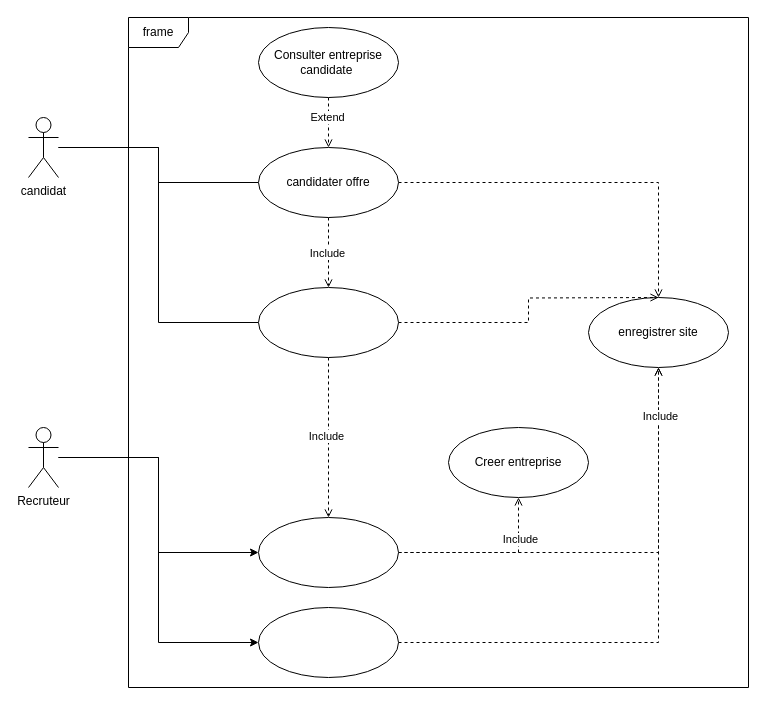
Image size: 766x705. Some labels were removed from this diagram. Here are the shapes that lost their labels. From the top down, the box of each, then its label:
(258, 286, 398, 358): Consulter offre
(258, 516, 398, 588): publier offre
(258, 606, 398, 678): Consulter offre candidat
